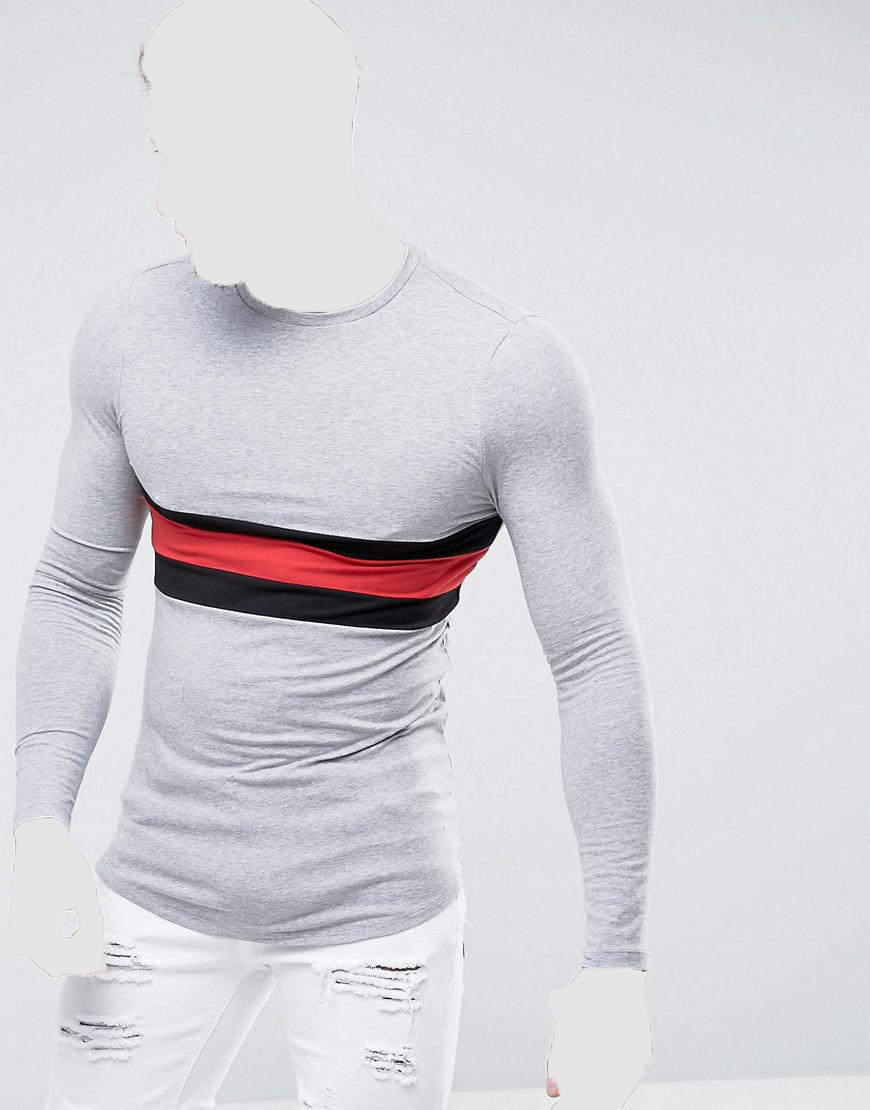teeshirt: (15, 259, 662, 966)
